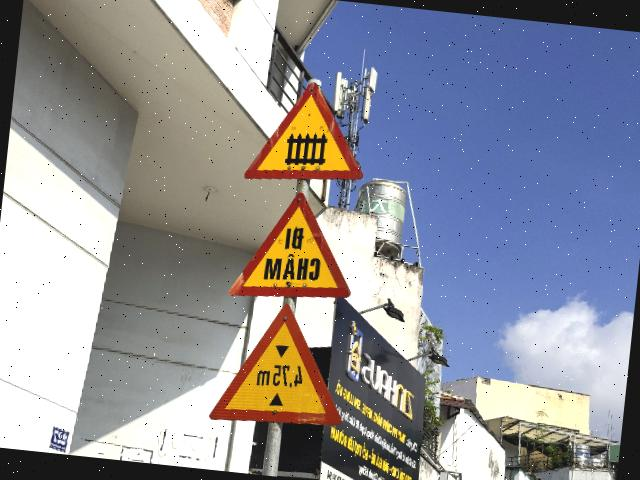chieu-cao-tinh-khong-thuc-te: (208, 296, 354, 433)
di-cham: (228, 185, 360, 309)
noi-giao-nhau-voi-duong-sat-co-rao-chan: (242, 74, 372, 192)
